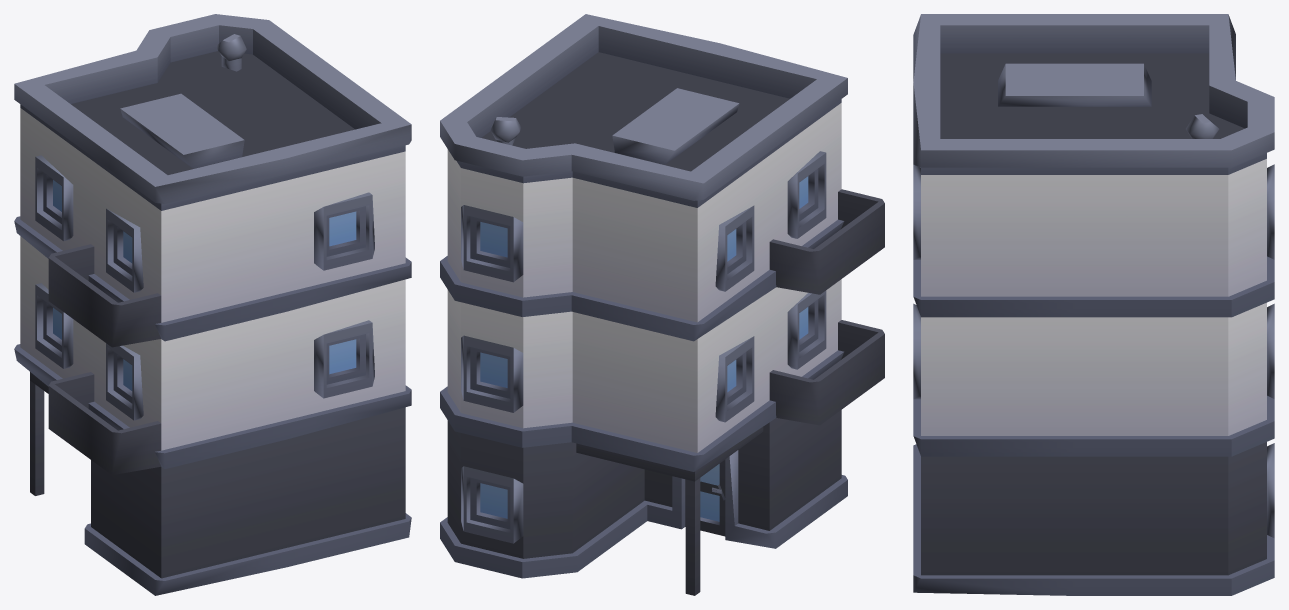
The model's file is 076_city-kit-commercial_building-b_card.glb.
3 renders of one model, left to right at view 1: azimuth 30°, elevation 25°; view 2: azimuth 150°, elevation 25°; view 3: azimuth 270°, elevation 25°, orthographic. The views are drawn at different scales.
Visible parts, largest first — view 1: building-b; view 2: building-b; view 3: building-b.
Part boxes in pixels (x1,y1,x2,y2): building-b: (14,14,411,595); building-b: (440,14,884,595); building-b: (913,14,1274,595).
Bounding box in the file's own units: 0.97 × 1.29 × 0.94.
Materials: 1 (1 with a texture image).
